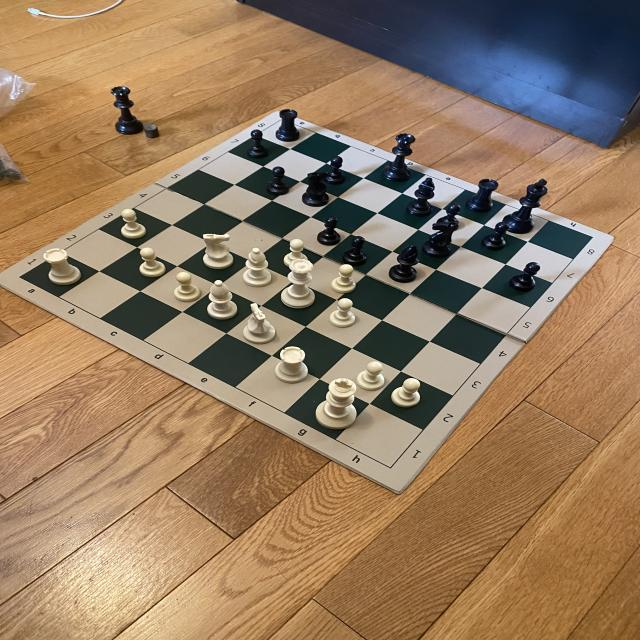Chessboard-Corners: (587, 232, 598, 241), (13, 274, 25, 282), (387, 464, 397, 473)
